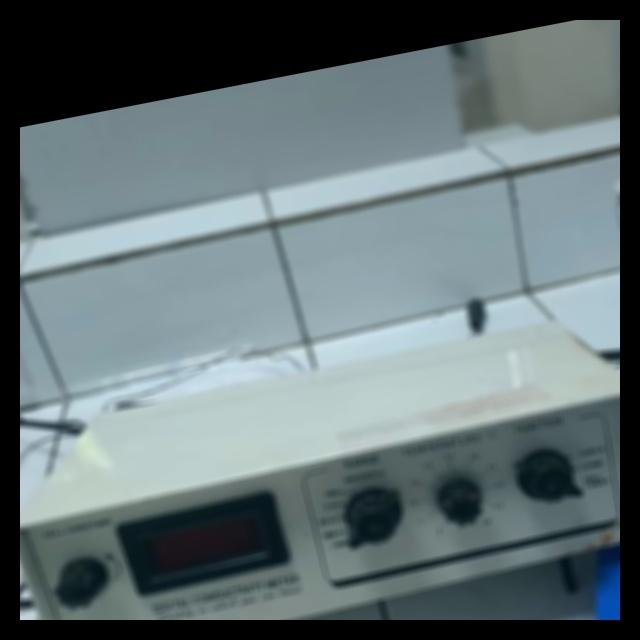Conductivity Meter: (20, 310, 620, 620)
